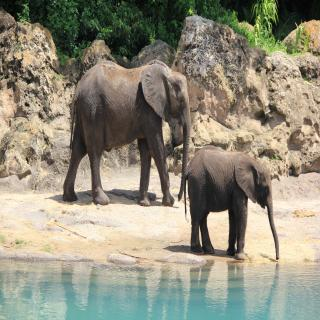Elephant: (63, 59, 192, 210), (185, 146, 287, 266)
